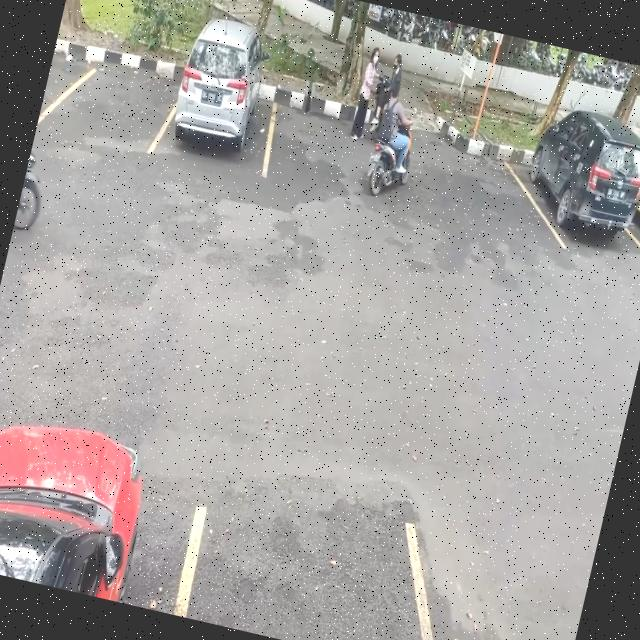empty: (183, 511, 434, 640), (411, 524, 599, 640), (41, 30, 178, 156)
occupied: (511, 118, 640, 261), (158, 39, 290, 174), (627, 131, 640, 266)
